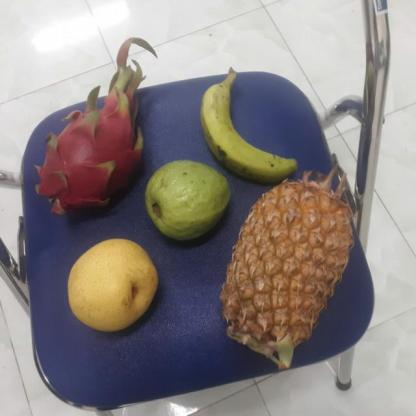banana: (198, 69, 298, 184)
guava: (146, 156, 233, 241)
pear: (68, 236, 162, 333)
pineapple: (224, 172, 362, 364)
pitaya: (38, 95, 147, 218)
